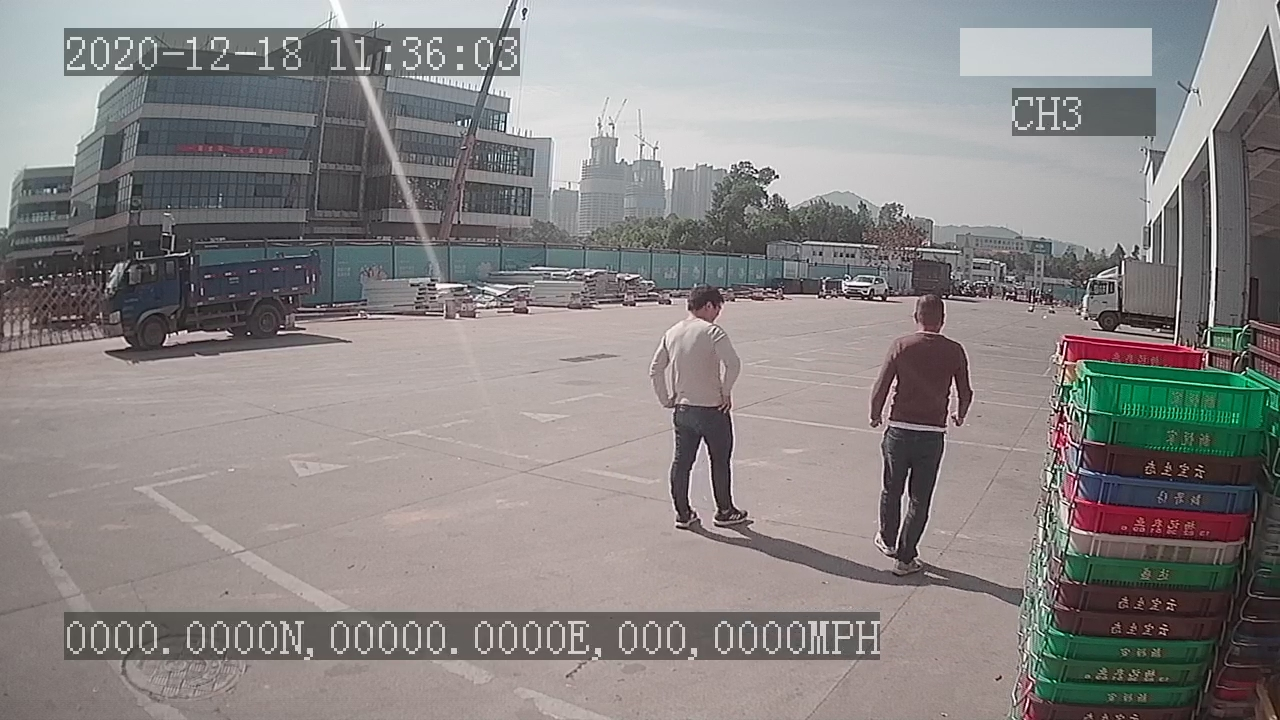person: (863, 295, 974, 577), (649, 281, 759, 533)
